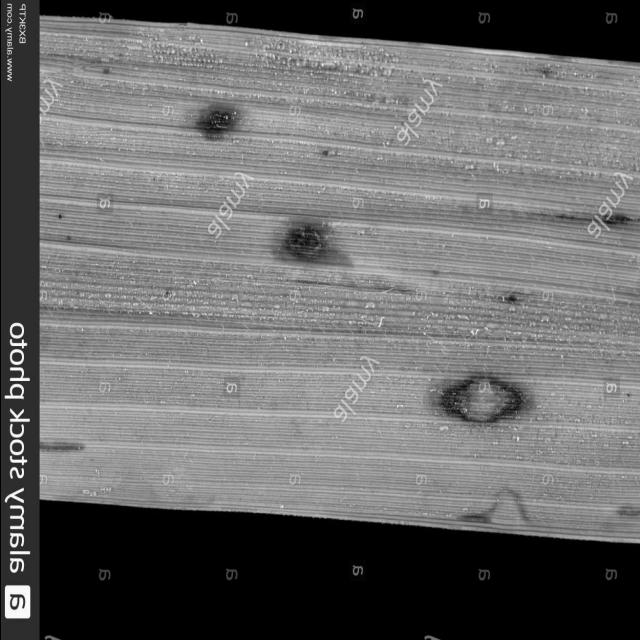Brown_Spot: (265, 202, 400, 316), (418, 349, 545, 441), (166, 91, 260, 152), (36, 417, 96, 470), (448, 496, 496, 533), (619, 250, 640, 312), (495, 289, 539, 313), (611, 505, 640, 531)
